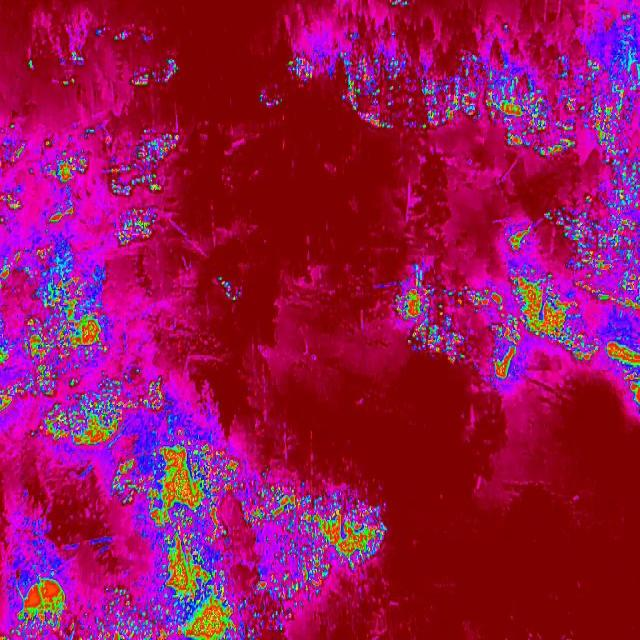fire: (0, 123, 190, 246), (335, 35, 488, 140), (244, 476, 395, 568), (26, 243, 108, 395), (35, 364, 173, 452), (508, 265, 604, 370), (485, 62, 580, 163), (142, 441, 232, 534), (105, 29, 189, 91), (160, 539, 229, 600), (10, 573, 73, 637), (578, 60, 634, 132), (597, 172, 640, 256), (85, 600, 174, 640), (253, 566, 335, 609), (404, 318, 468, 368), (603, 332, 640, 417), (175, 595, 238, 640), (0, 337, 29, 422), (488, 316, 524, 382), (440, 284, 510, 316), (108, 457, 146, 507), (394, 275, 424, 323), (505, 214, 537, 258), (0, 248, 23, 290), (285, 55, 315, 87), (260, 89, 286, 110), (224, 450, 240, 481), (212, 274, 232, 290), (60, 72, 77, 89), (28, 59, 34, 70)
